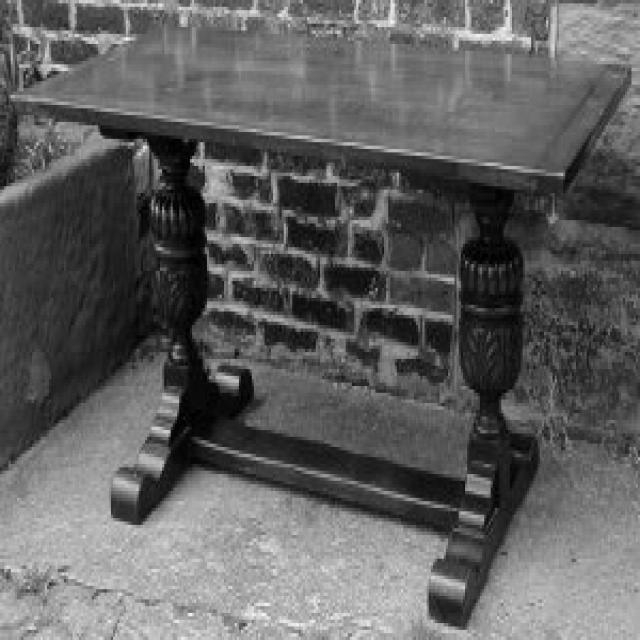table: (15, 20, 632, 624)
